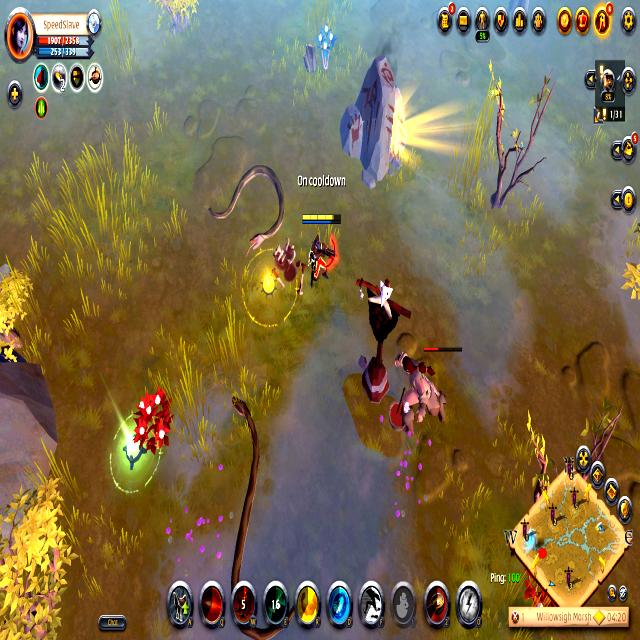hide: (129, 377, 180, 460), (313, 15, 338, 76)
ore: (224, 383, 320, 640), (398, 332, 467, 445)
red: (300, 209, 346, 294)
